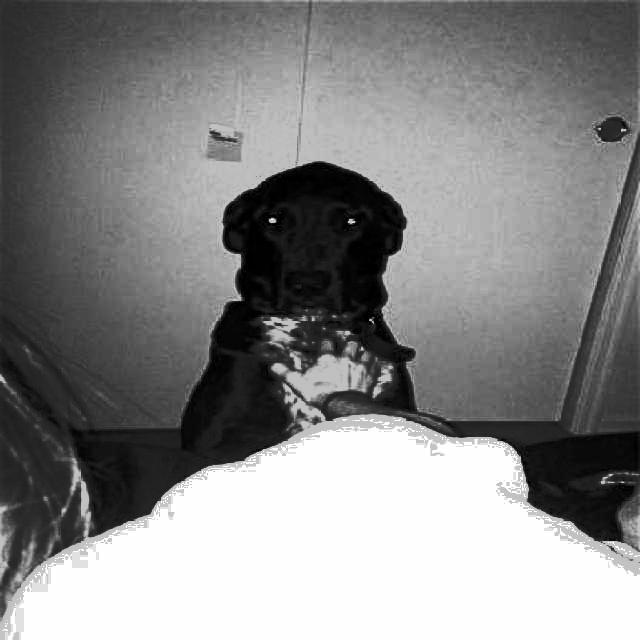Dog: (172, 157, 423, 480)
